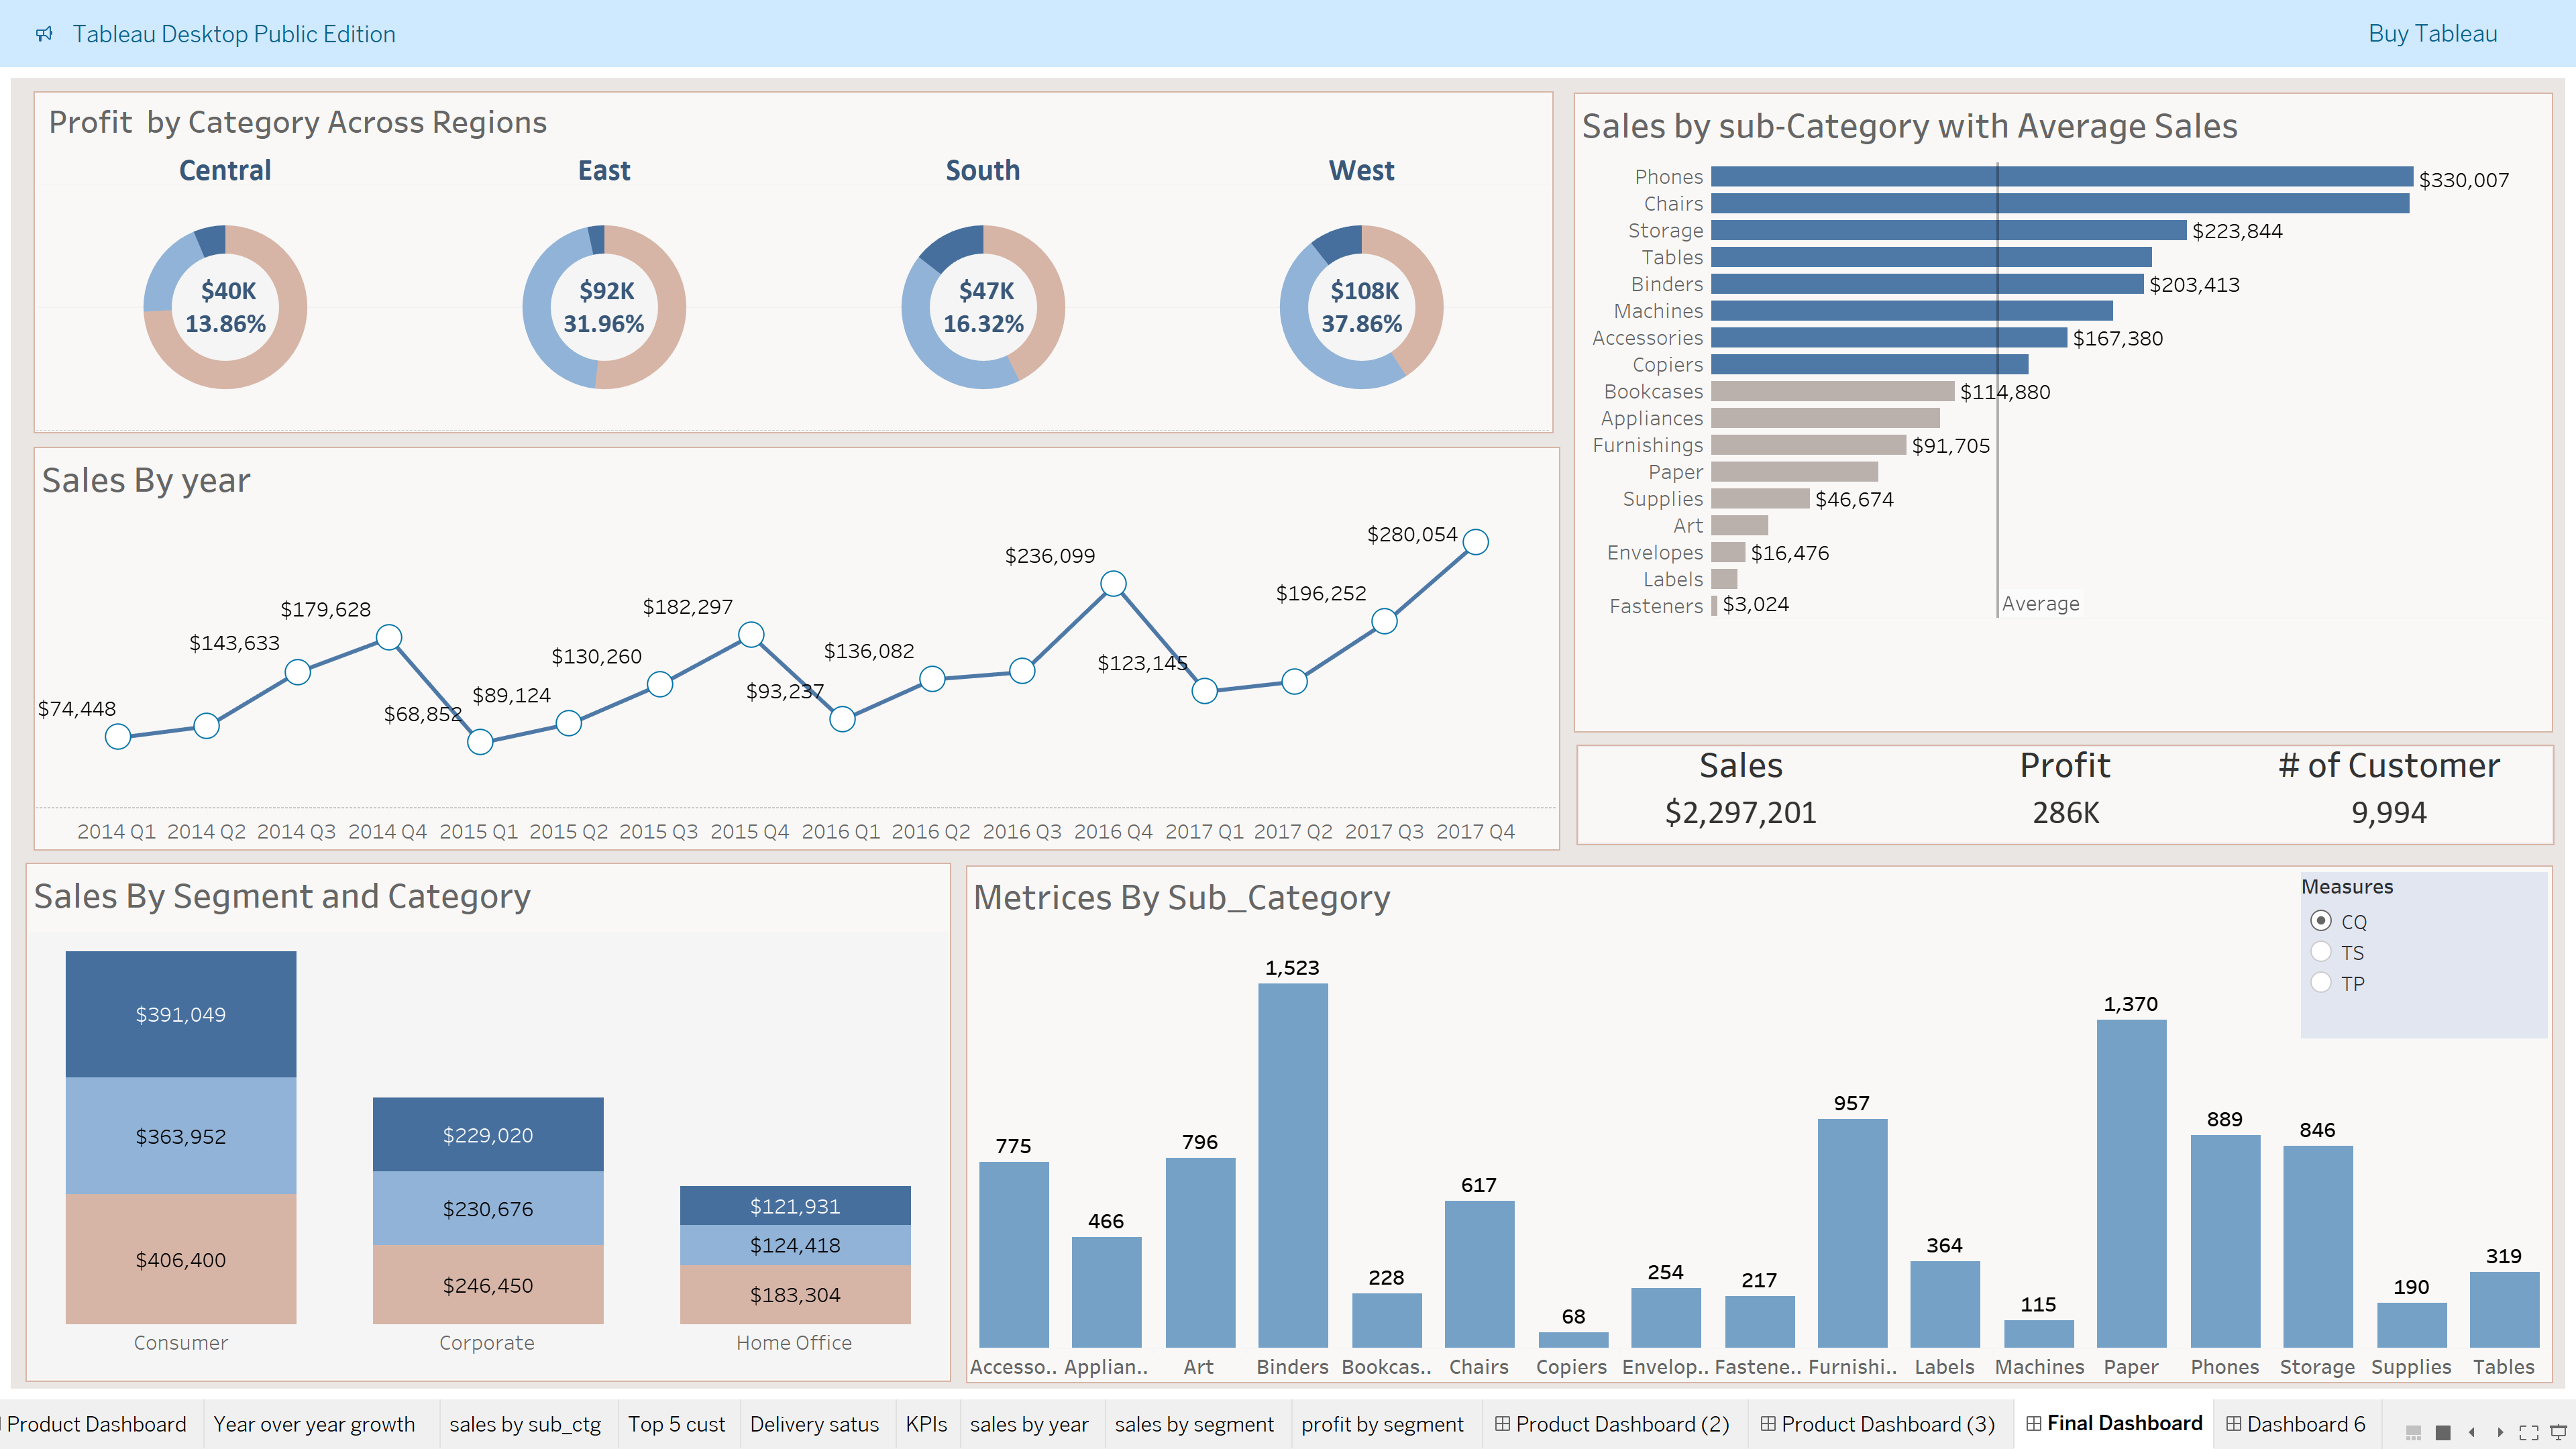

What the dashboard file says about the page in this screenshot:
{"tool":"tableau","page":{"name":"Final Dashboard","canvas":[1000,1000],"units":"permille","ordinal":1},"visuals":[{"type":"worksheet","title":"Donut","mark":"Pie","rows":["Calculation_81627749560082432","d1 (copy)_81627749560328193"],"cols":["Region","Region (copy)_81627749566644226"],"box":[12.1,16,592.2,261.1]},{"type":"worksheet","title":"sales by sub_ctg","mark":"Automatic","rows":["Sub-Category"],"cols":["Sales"],"box":[609.8,17.2,382.3,484]},{"type":"worksheet","title":"sales by year","mark":"Automatic","rows":["Sales","Sales"],"cols":["Order Date"],"box":[12.1,283.2,594.7,306.7]},{"type":"worksheet","title":"KPIs","mark":"Automatic","box":[611,506.2,381.7,80]},{"type":"worksheet","title":"sales by segment","mark":"Automatic","rows":["Sales"],"cols":["Segment"],"box":[9.1,594.8,361.7,394.1]},{"type":"worksheet","title":"Paramter","mark":"Automatic","rows":["Calculation_81627749639864327"],"cols":["Sub-Category"],"box":[373.8,597.3,618.3,392.9]},{"type":"parameter","param":"[Parameters].[Parameter 1]","box":[893.2,604.7,96,124.4]}]}

Visuals, with their boxes on the dashboard's canvas, which has no fixed pixel size, in thousandths of its width and height (x1, y1, x2, y2). These are canvas units, not pixel positions in the 2576x1449 screenshot, which may show the page scaled, cropped or inside an application window:
"Donut" worksheet (Pie marks): <box>12,16,604,277</box>
"sales by sub_ctg" worksheet: <box>610,17,992,501</box>
"sales by year" worksheet: <box>12,283,607,590</box>
"KPIs" worksheet: <box>611,506,993,586</box>
"sales by segment" worksheet: <box>9,595,371,989</box>
"Paramter" worksheet: <box>374,597,992,990</box>
parameter: <box>893,605,989,729</box>
